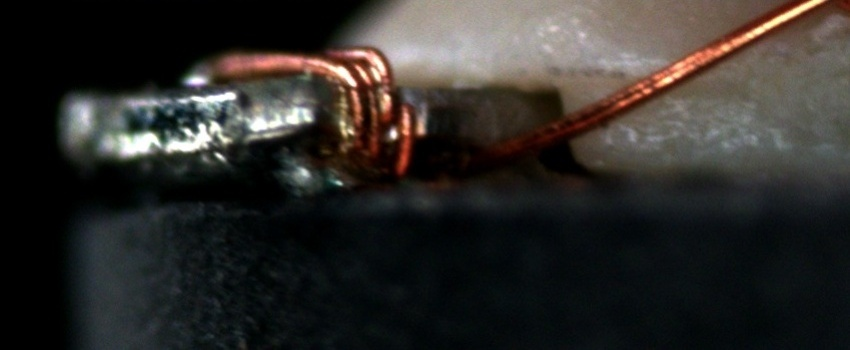DL: (588, 57, 736, 112)
TE: (195, 32, 424, 181)
